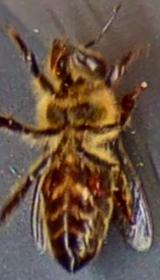varroa_mite: (82, 166, 112, 198), (36, 165, 61, 201)
